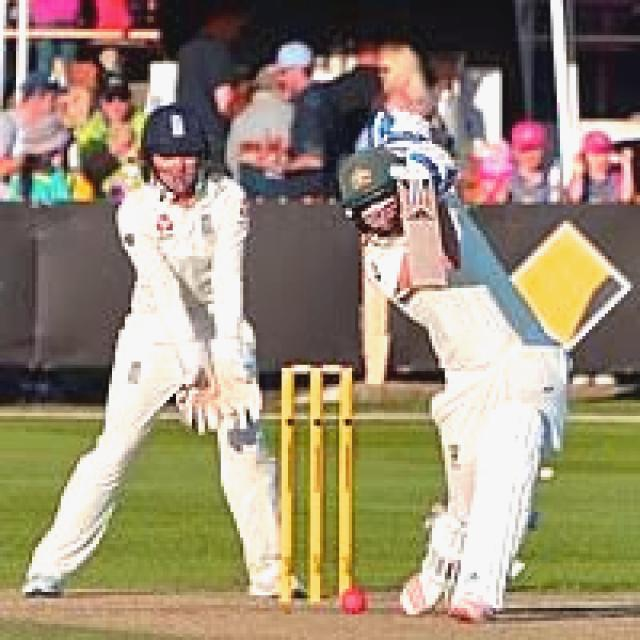bat: (396, 178, 457, 298)
toe: (405, 281, 451, 293)
